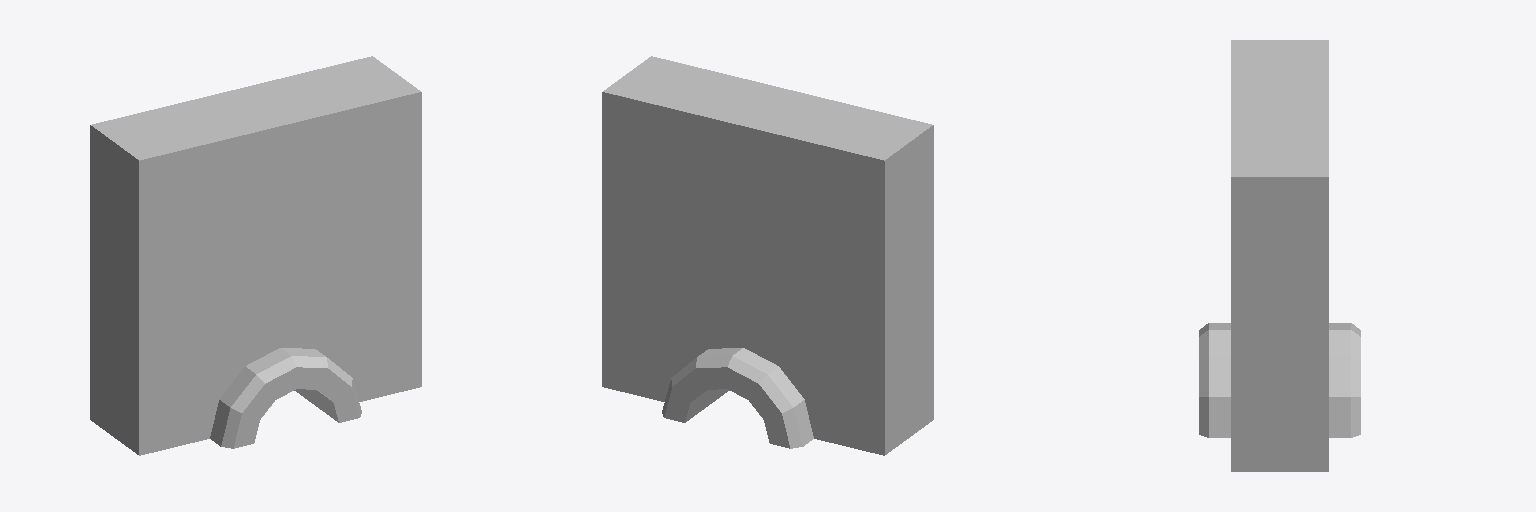
Rendered from struct_wall_sewer_main.obj.
3 views of the same model, side by side, from view 1: azimuth 30°, elevation 25°; view 2: azimuth 150°, elevation 25°; view 3: azimuth 270°, elevation 25° (orthographic).
Parts seen in each view (by area): view 1: struct_wall_sewer_main, struct_wall_sewer_main_2; view 2: struct_wall_sewer_main, struct_wall_sewer_main_2; view 3: struct_wall_sewer_main, struct_wall_sewer_main_2.
Boxes of the visible parts, <box> form: struct_wall_sewer_main: <box>90,56,421,455</box>; struct_wall_sewer_main_2: <box>210,348,361,448</box>; struct_wall_sewer_main: <box>602,56,933,455</box>; struct_wall_sewer_main_2: <box>662,348,813,448</box>; struct_wall_sewer_main: <box>1231,40,1328,471</box>; struct_wall_sewer_main_2: <box>1199,323,1360,437</box>.
Bounding box in the file's own units: 1 × 1 × 0.5.